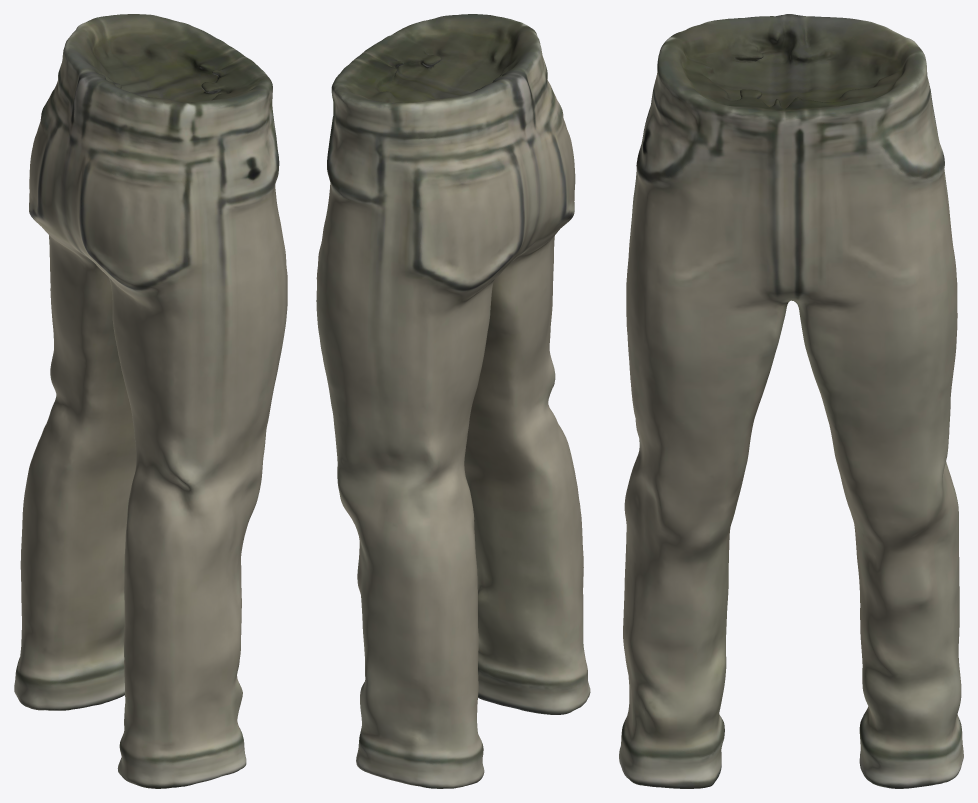
Rendered from ca8484b1ae80_e3fb4e6ee3a2_pants__3d_asset_0_g.glb.
3 views of the same model, side by side, from view 1: azimuth 30°, elevation 25°; view 2: azimuth 150°, elevation 25°; view 3: azimuth 270°, elevation 25° (orthographic). The views are drawn at different scales.
Parts seen in each view (by area): view 1: high_poly; view 2: high_poly; view 3: high_poly.
Part boxes in pixels (x1,y1,x2,y2): high_poly: (14, 14, 287, 788); high_poly: (316, 14, 590, 788); high_poly: (619, 14, 963, 788).
Size of the model in its own units: 0.293 by 1 by 0.4275.
1 material, 1 textured.
